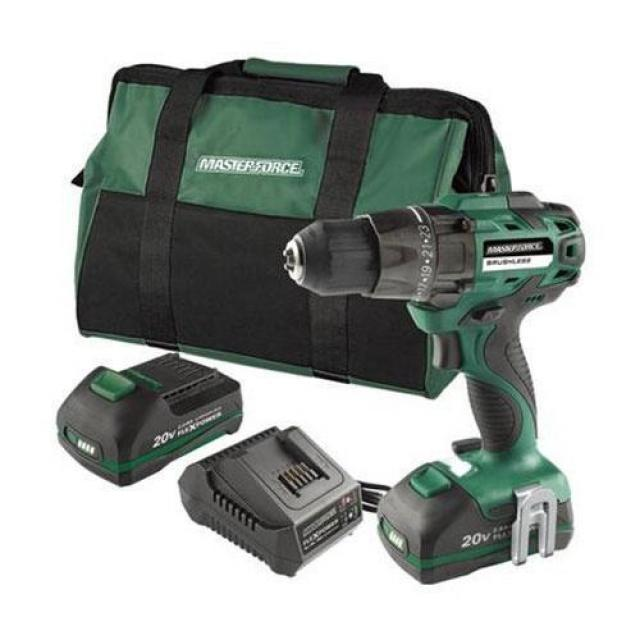drill: (282, 190, 588, 586), (56, 353, 246, 488)
